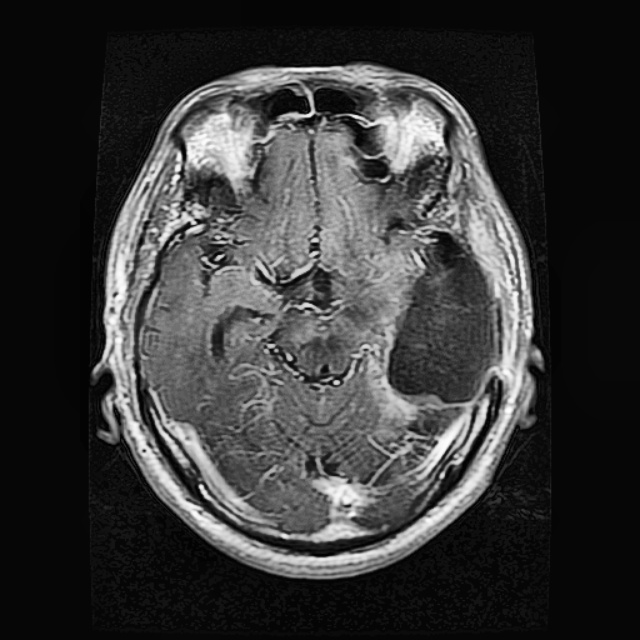Glioma: (380, 228, 498, 404)
